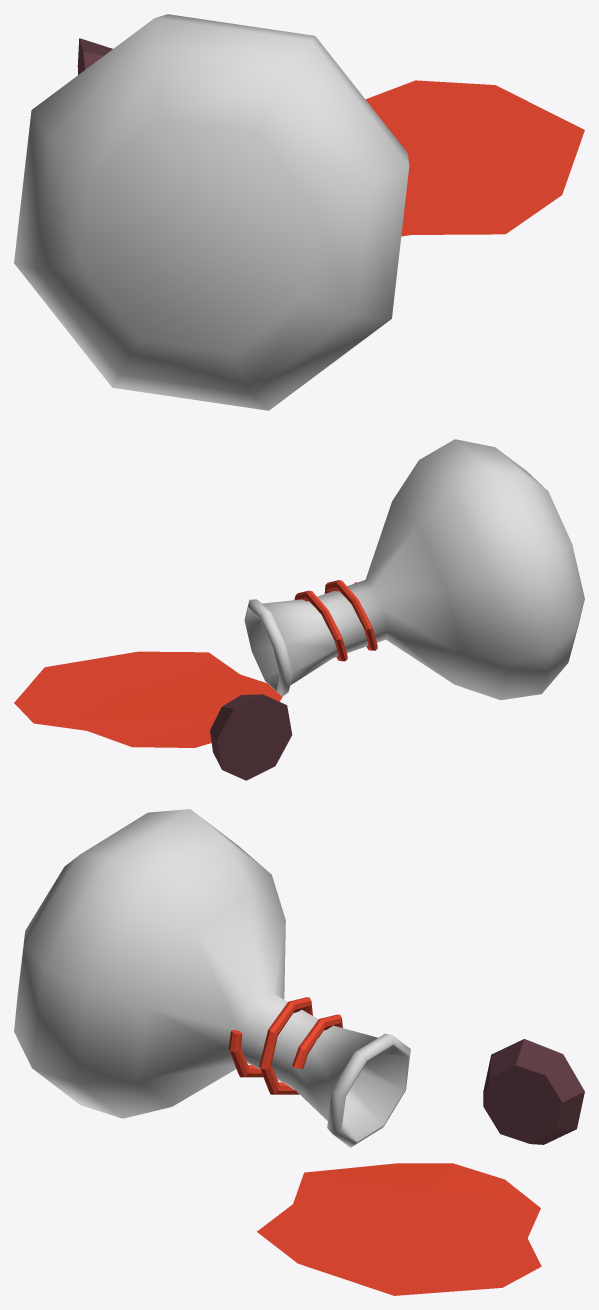
Rendered from poção-caidav2.fbx.
3 renders of one model, top to bottom at view 1: azimuth 30°, elevation 25°; view 2: azimuth 150°, elevation 25°; view 3: azimuth 270°, elevation 25°, orthographic. The views are drawn at different scales.
Parts seen in each view (by area): view 1: PoçãoRedonda.004; view 2: PoçãoRedonda.004; view 3: PoçãoRedonda.004.
Part boxes in pixels (x1,y1,x2,y2): PoçãoRedonda.004: (14, 14, 584, 410); PoçãoRedonda.004: (14, 439, 584, 780); PoçãoRedonda.004: (14, 809, 584, 1295).
Size of the model in its own units: 0.4339 by 0.2139 by 0.3959.
